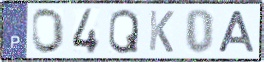0: (183, 8, 215, 56)
4: (71, 7, 101, 56)
A: (215, 9, 257, 54)
K: (148, 8, 176, 54)
O: (31, 7, 66, 56)
Q: (107, 8, 140, 56)
